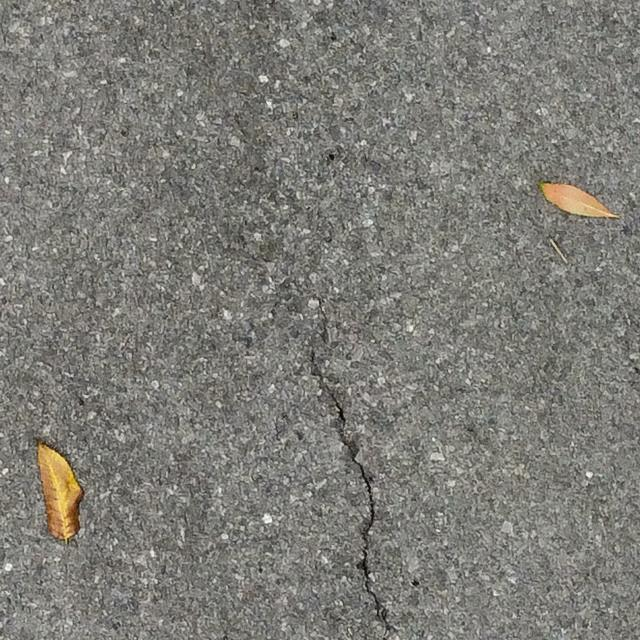LongitudinalCrack: (308, 345, 394, 633)
